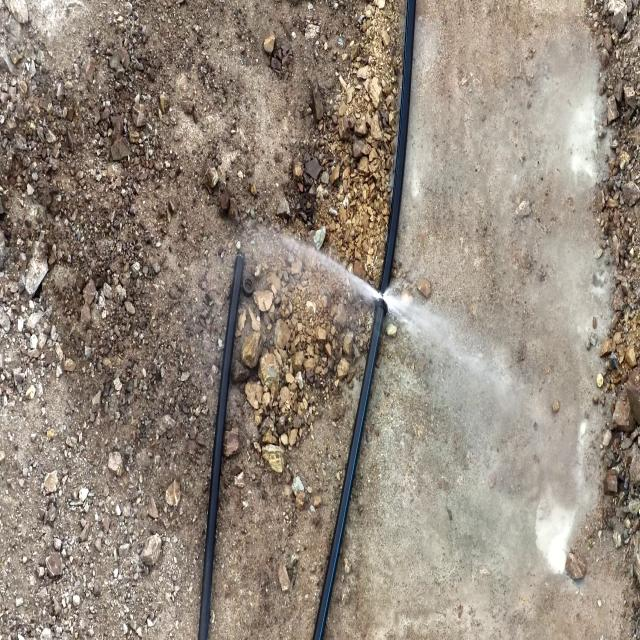leak: (279, 233, 447, 347)
